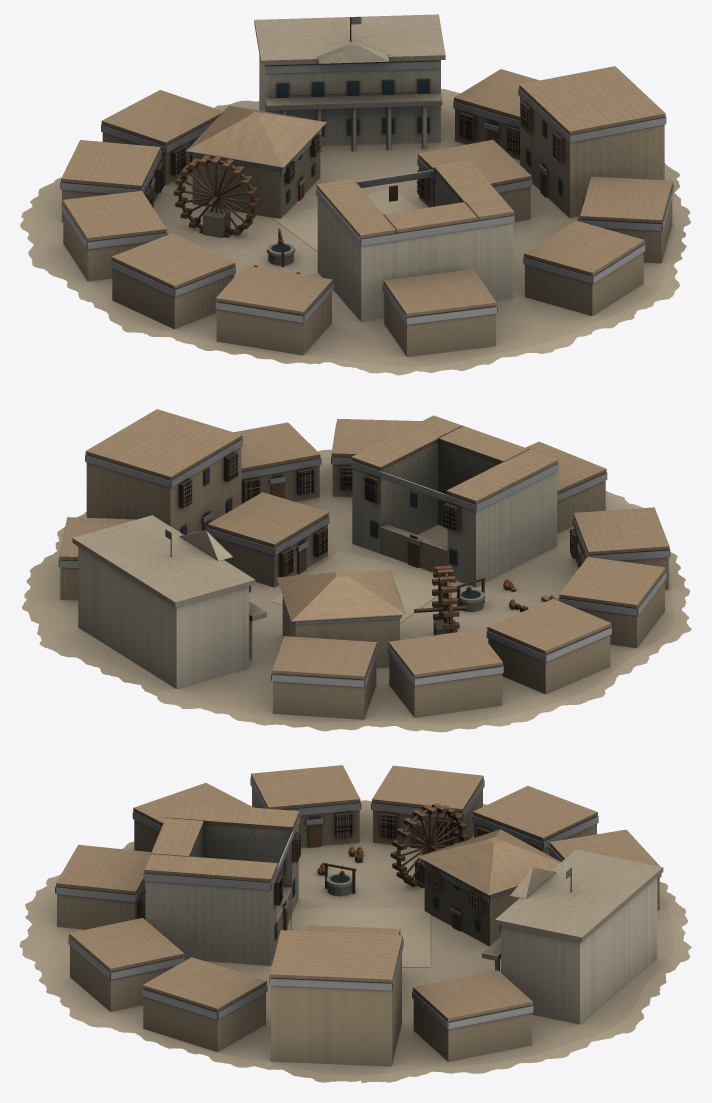
The model's file is gunpowder-town-medium-b-nile.glb.
3 renders of one model, top to bottom at view 1: azimuth 30°, elevation 25°; view 2: azimuth 150°, elevation 25°; view 3: azimuth 270°, elevation 25°, orthographic.
Visible parts, largest first — view 1: LOD0; view 2: LOD0; view 3: LOD0.
Boxes of the visible parts, bbox=[...] form: LOD0: bbox=[20, 14, 690, 375]; LOD0: bbox=[22, 409, 691, 732]; LOD0: bbox=[19, 765, 691, 1083].
Size of what is drawn, in the model's own units: 5.95 by 1.11 by 5.92.
3 materials, 3 textured.
